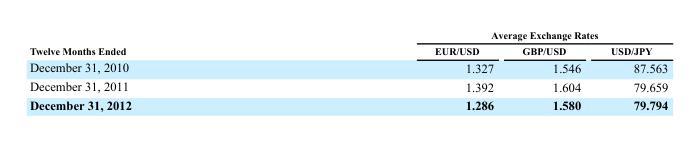table: (28, 28, 667, 111)
table column: (28, 28, 282, 111), (282, 28, 507, 111), (507, 28, 595, 111), (595, 28, 667, 111)
table column header: (28, 28, 667, 58)
table row: (28, 76, 667, 95), (28, 58, 667, 76), (28, 42, 667, 58), (28, 95, 667, 111), (28, 28, 667, 42)
table spanning cell: (28, 28, 282, 58), (282, 28, 667, 42)
